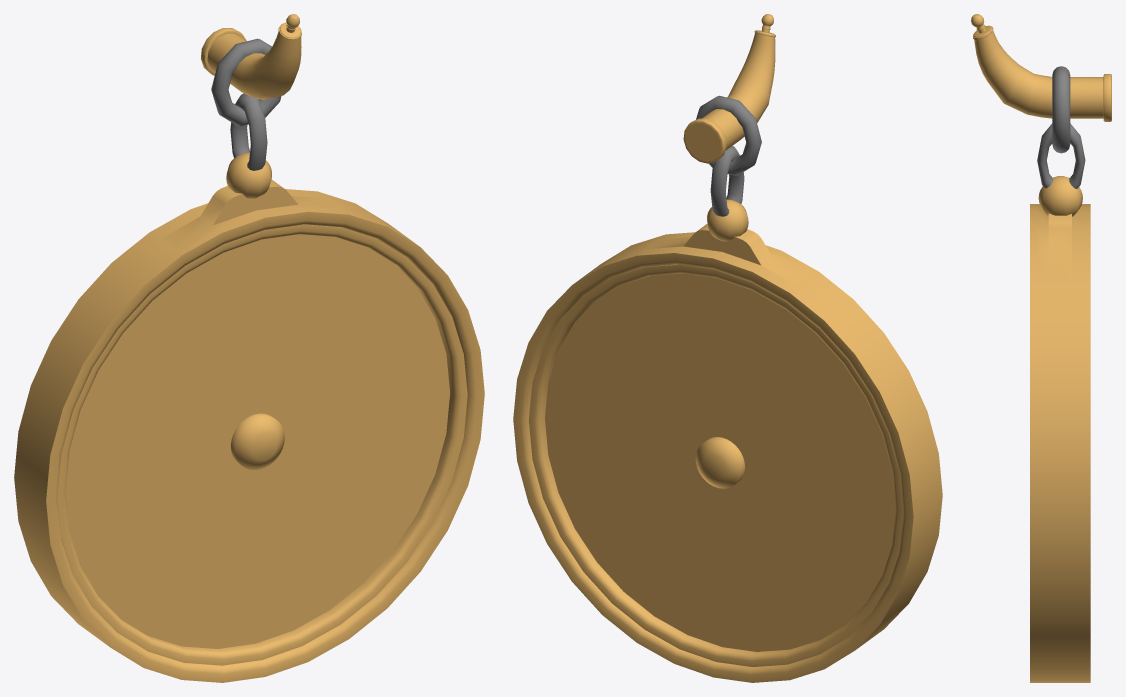
Rendered from Astrolab_00.fbx.
3 views of the same model, side by side, from view 1: azimuth 30°, elevation 25°; view 2: azimuth 150°, elevation 25°; view 3: azimuth 270°, elevation 25° (orthographic). The views are drawn at different scales.
Parts seen in each view (by area): view 1: Astrolab_00; view 2: Astrolab_00; view 3: Astrolab_00.
Boxes of the visible parts, x1,y1,x2,y2 form: Astrolab_00: (14, 14, 484, 682); Astrolab_00: (513, 14, 942, 682); Astrolab_00: (971, 14, 1111, 682).
Bounding box in the file's own units: 2 × 2.97 × 0.5871.
